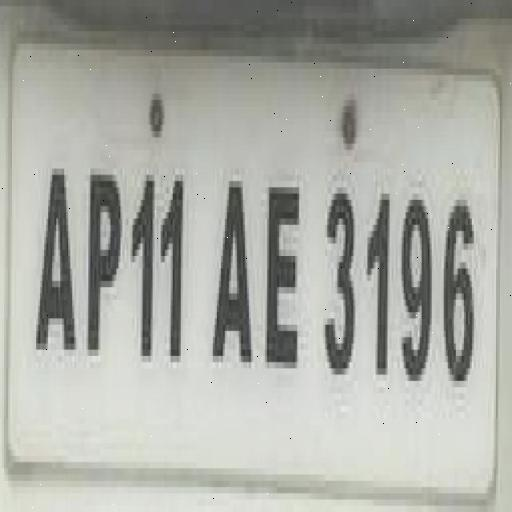number plate: (0, 44, 486, 474)
